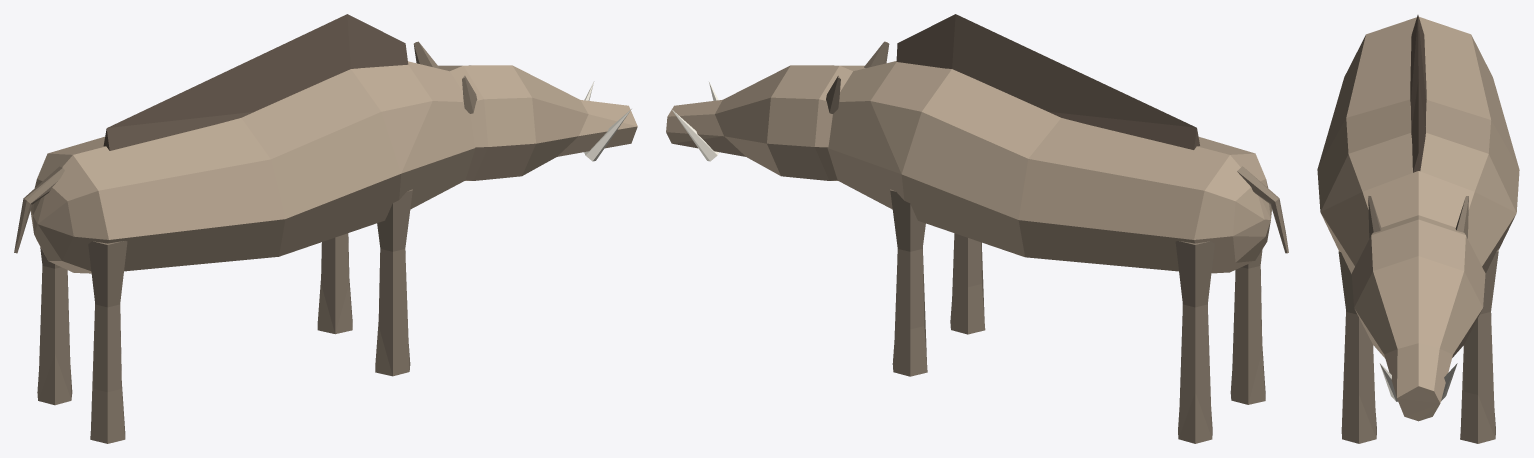
File: 36-Fauna_jabali.glb
3 views of the same model, side by side, from view 1: azimuth 30°, elevation 25°; view 2: azimuth 150°, elevation 25°; view 3: azimuth 270°, elevation 25° (orthographic). The views are drawn at different scales.
Visible parts, largest first — view 1: SM_Jabali_M_Jabali_Pelo, SM_Jabali_M_Jabali_Pelo_Oscuro, SM_Jabali_M_Jabali_Cresta; view 2: SM_Jabali_M_Jabali_Pelo, SM_Jabali_M_Jabali_Pelo_Oscuro, SM_Jabali_M_Jabali_Cresta; view 3: SM_Jabali_M_Jabali_Pelo, SM_Jabali_M_Jabali_Pelo_Oscuro, SM_Jabali_M_Jabali_Cresta, SM_Jabali_M_Jabali_Colmillo.
Boxes of the visible parts, box(x1,y1,x2,y2) form: SM_Jabali_M_Jabali_Pelo: box(30, 61, 637, 273); SM_Jabali_M_Jabali_Pelo_Oscuro: box(14, 41, 477, 443); SM_Jabali_M_Jabali_Cresta: box(103, 14, 408, 150); SM_Jabali_M_Jabali_Pelo: box(666, 61, 1271, 273); SM_Jabali_M_Jabali_Pelo_Oscuro: box(826, 41, 1288, 443); SM_Jabali_M_Jabali_Cresta: box(896, 14, 1199, 149); SM_Jabali_M_Jabali_Pelo: box(1317, 17, 1519, 421); SM_Jabali_M_Jabali_Pelo_Oscuro: box(1338, 196, 1498, 443); SM_Jabali_M_Jabali_Cresta: box(1410, 15, 1426, 172); SM_Jabali_M_Jabali_Colmillo: box(1379, 363, 1457, 401).
Size of the model in its own units: 1.48 by 0.775 by 0.4077.
